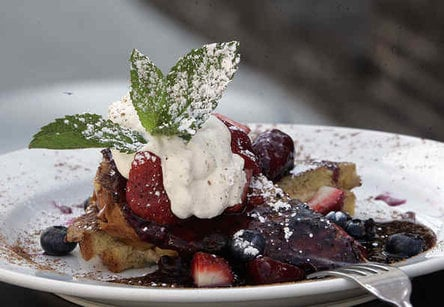curry: (128, 41, 243, 138)
